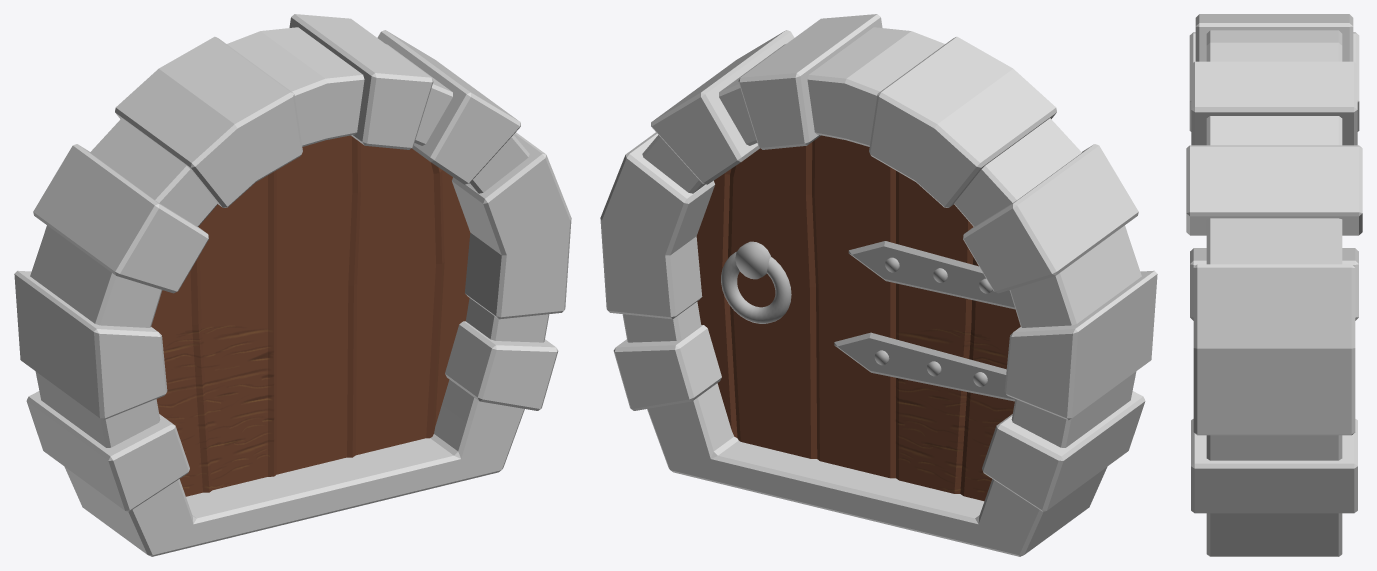
Rendered from puertaOvejas.fbx.
3 views of the same model, side by side, from view 1: azimuth 30°, elevation 25°; view 2: azimuth 150°, elevation 25°; view 3: azimuth 270°, elevation 25° (orthographic).
Visible parts, largest first — view 1: marco2, Plane.001; view 2: marco2, Plane.001, manillaSop; view 3: marco2.
Part boxes in pixels (x1,y1,x2,y2): marco2: [14, 14, 571, 556]; Plane.001: [151, 135, 470, 496]; marco2: [600, 14, 1157, 556]; Plane.001: [696, 135, 1020, 501]; manillaSop: [721, 241, 1015, 401]; marco2: [1186, 14, 1362, 556].
Bounding box in the file's own units: 2.69 × 2.35 × 0.8698.
